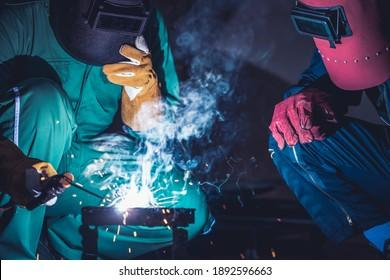gloves: (102, 33, 167, 129), (269, 81, 341, 149), (1, 138, 62, 209)
